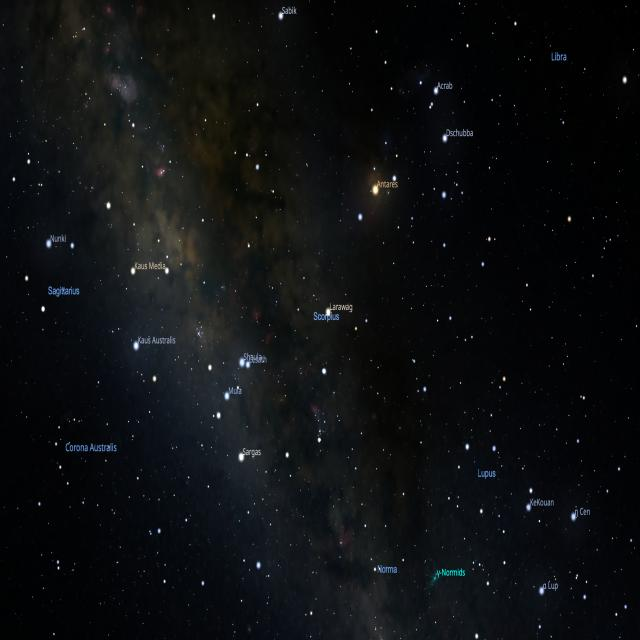Scorpius: (212, 76, 452, 468)
